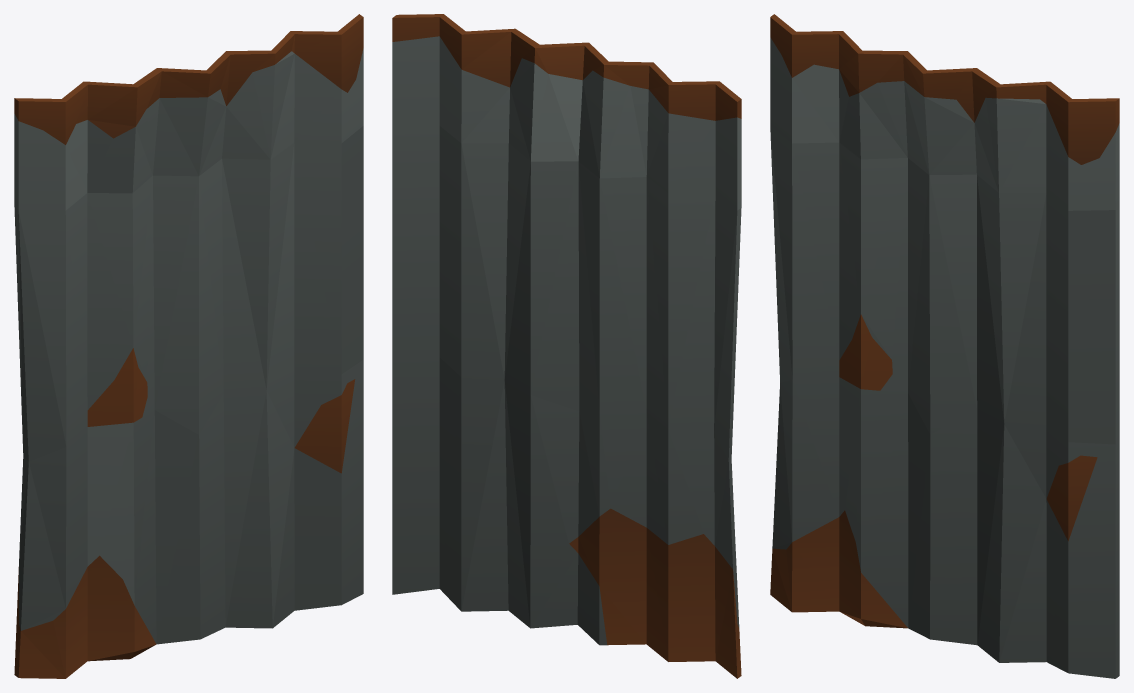
File: Prop_Metal_Sheet_03.obj
3 renders of one model, left to right at view 1: azimuth 30°, elevation 25°; view 2: azimuth 150°, elevation 25°; view 3: azimuth 330°, elevation 25°, orthographic.
Visible parts, largest first — view 1: Prop_Metal_Sheet_03; view 2: Prop_Metal_Sheet_03; view 3: Prop_Metal_Sheet_03.
Boxes of the visible parts, x1,y1,x2,y2 form: Prop_Metal_Sheet_03: [14, 14, 363, 678]; Prop_Metal_Sheet_03: [392, 14, 741, 678]; Prop_Metal_Sheet_03: [770, 14, 1119, 678].
Size of the model in its own units: 1.07 by 1.7 by 0.1357.
1 material, 1 textured.
